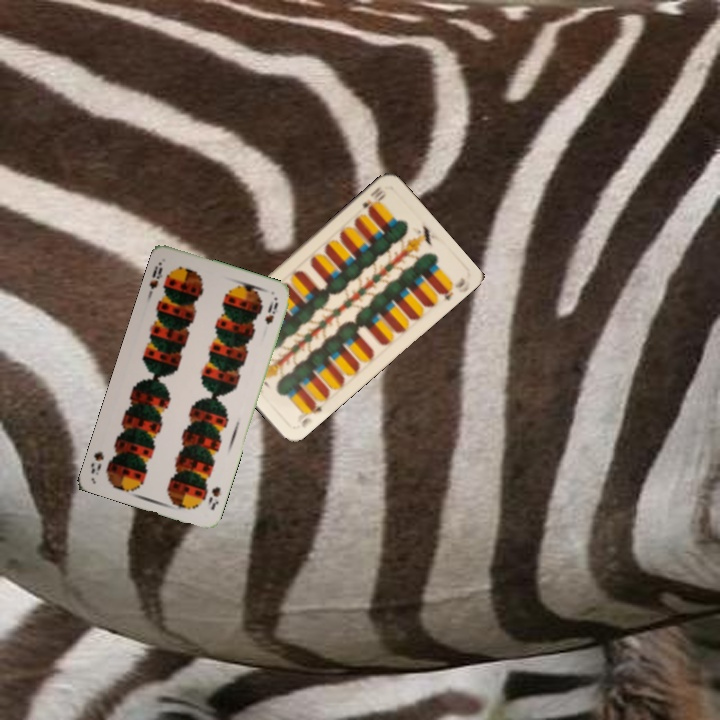E10: (358, 183, 389, 215), (297, 398, 325, 430)
S8: (145, 263, 166, 291), (204, 483, 223, 512)
